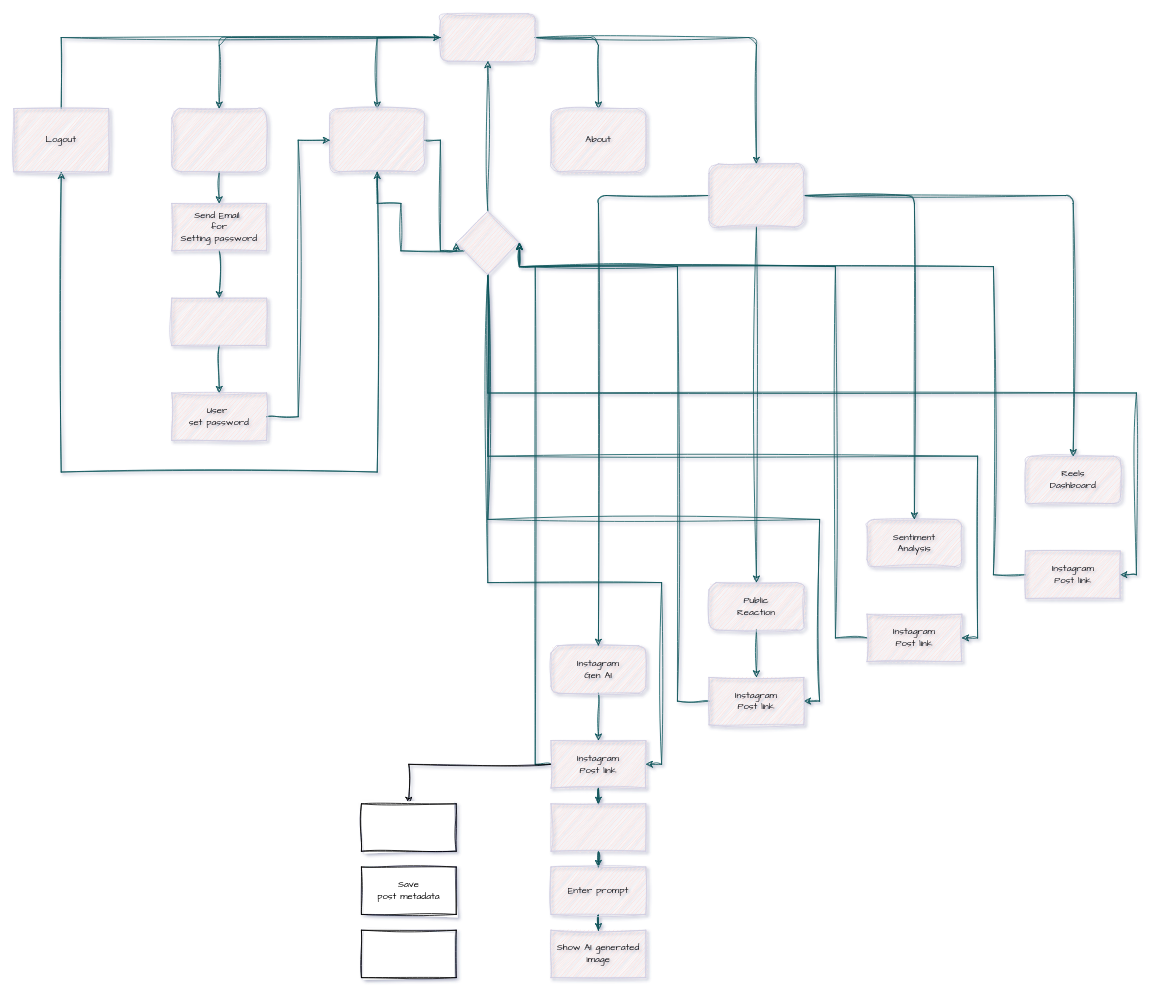
This 1161x996 diagram has some shape labels left out. The centre of each missing label's shape, as x and y in pixels:
Auth: the point at 487,243
Features: the point at 756,195
Home: the point at 487,37
Login: the point at 377,140
Save images in database: the point at 408,827
Show image preview in Modal: the point at 598,827
Sign Up: the point at 219,140
User open web link: the point at 219,321
